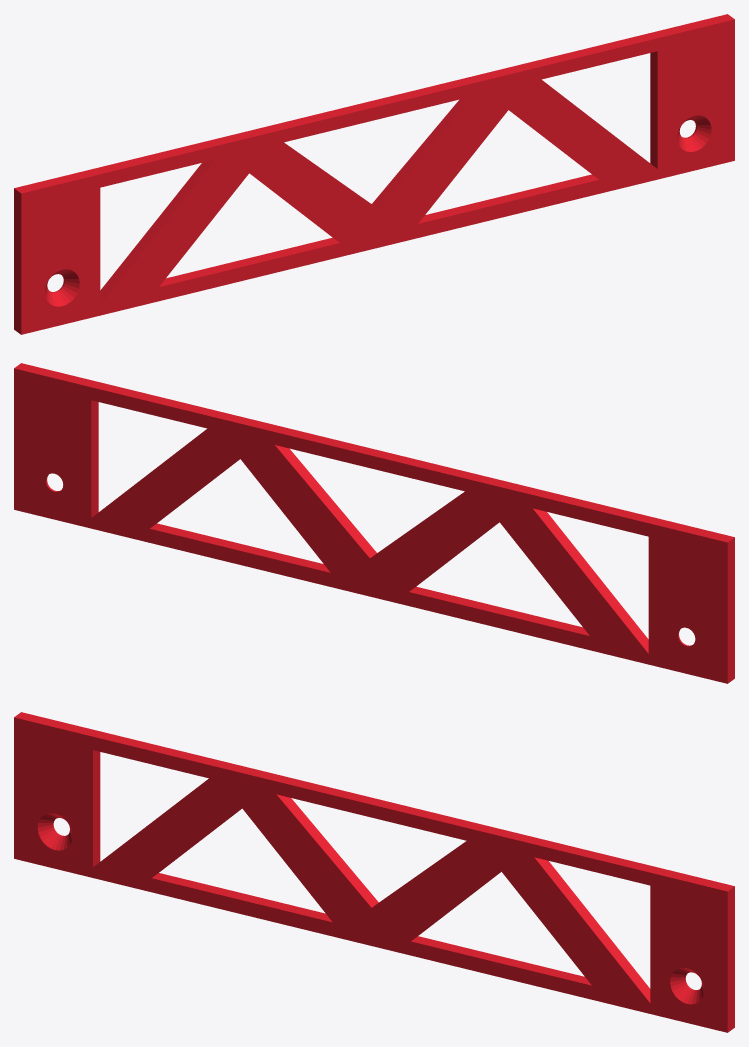
Rendered from tinker.obj.
3 views of the same model, one above another, from view 1: azimuth 30°, elevation 25°; view 2: azimuth 150°, elevation 25°; view 3: azimuth 330°, elevation 25° (orthographic).
Visible parts, largest first — view 1: obj_0; view 2: obj_0; view 3: obj_0.
Part boxes in pixels (x1,y1,x2,y2): obj_0: (14, 14, 734, 334); obj_0: (14, 363, 734, 683); obj_0: (14, 712, 734, 1032).
Size of the model in its own units: 158 by 30 by 2.8.
